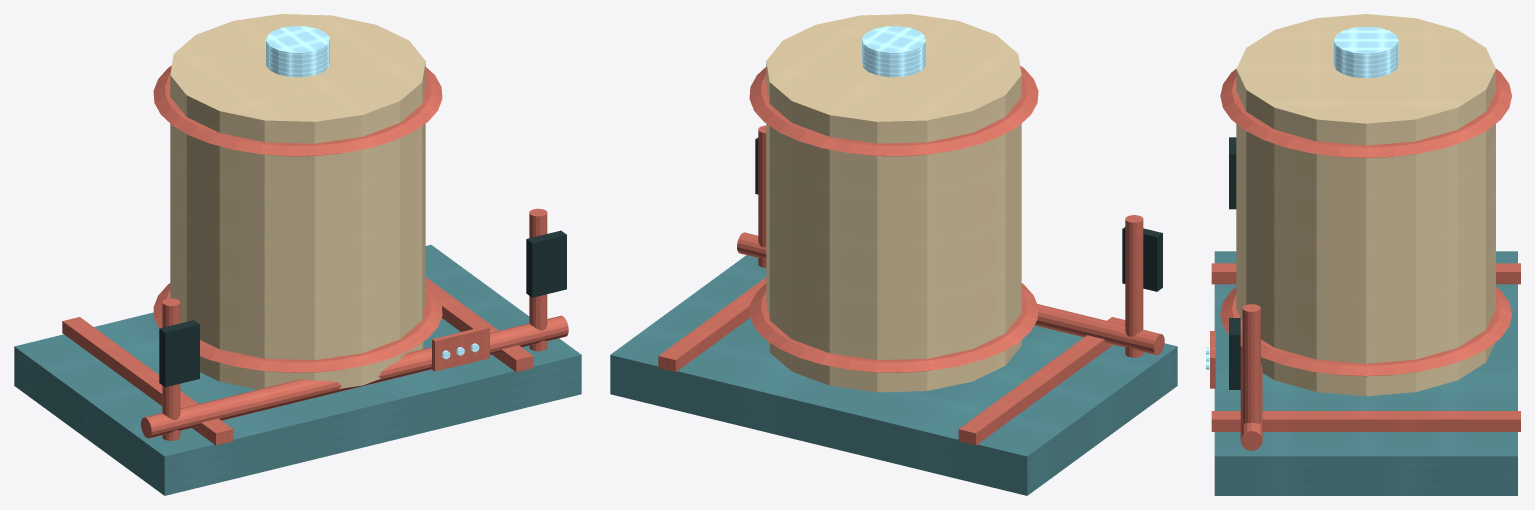
File: atlas100-s074-a04.glb
3 renders of one model, left to right at view 1: azimuth 30°, elevation 25°; view 2: azimuth 150°, elevation 25°; view 3: azimuth 270°, elevation 25°, orthographic.
Visible parts, largest first — view 1: atlas100-s074-a04:part-003, atlas100-s074-a04:part-000, atlas100-s074-a04:part-011, atlas100-s074-a04:part-005, atlas100-s074-a04:part-004, atlas100-s074-a04:part-001, atlas100-s074-a04:part-006, atlas100-s074-a04:part-010, atlas100-s074-a04:part-008, atlas100-s074-a04:part-002, atlas100-s074-a04:part-012, atlas100-s074-a04:part-009 (+1 smaller); view 2: atlas100-s074-a04:part-003, atlas100-s074-a04:part-000, atlas100-s074-a04:part-005, atlas100-s074-a04:part-004, atlas100-s074-a04:part-001, atlas100-s074-a04:part-011, atlas100-s074-a04:part-006, atlas100-s074-a04:part-002, atlas100-s074-a04:part-007, atlas100-s074-a04:part-008, atlas100-s074-a04:part-009; view 3: atlas100-s074-a04:part-003, atlas100-s074-a04:part-000, atlas100-s074-a04:part-002, atlas100-s074-a04:part-005, atlas100-s074-a04:part-004, atlas100-s074-a04:part-006, atlas100-s074-a04:part-009, atlas100-s074-a04:part-001, atlas100-s074-a04:part-011, atlas100-s074-a04:part-010, atlas100-s074-a04:part-008.
Boxes of the visible parts, x1,y1,x2,y2 form: atlas100-s074-a04:part-003: [170, 14, 425, 389]; atlas100-s074-a04:part-000: [14, 245, 581, 495]; atlas100-s074-a04:part-011: [141, 315, 568, 438]; atlas100-s074-a04:part-005: [153, 65, 442, 156]; atlas100-s074-a04:part-004: [153, 283, 442, 372]; atlas100-s074-a04:part-001: [62, 317, 233, 445]; atlas100-s074-a04:part-006: [266, 26, 329, 77]; atlas100-s074-a04:part-010: [526, 230, 566, 297]; atlas100-s074-a04:part-008: [159, 320, 199, 387]; atlas100-s074-a04:part-002: [425, 277, 533, 372]; atlas100-s074-a04:part-012: [432, 326, 489, 371]; atlas100-s074-a04:part-009: [529, 208, 547, 351]; atlas100-s074-a04:part-003: [766, 14, 1021, 392]; atlas100-s074-a04:part-000: [610, 255, 1177, 495]; atlas100-s074-a04:part-005: [749, 65, 1038, 156]; atlas100-s074-a04:part-004: [749, 283, 1038, 372]; atlas100-s074-a04:part-001: [958, 317, 1125, 445]; atlas100-s074-a04:part-011: [737, 232, 1164, 355]; atlas100-s074-a04:part-006: [862, 26, 925, 77]; atlas100-s074-a04:part-002: [658, 277, 766, 372]; atlas100-s074-a04:part-007: [1125, 215, 1143, 357]; atlas100-s074-a04:part-008: [1122, 227, 1162, 291]; atlas100-s074-a04:part-009: [758, 125, 766, 267]; atlas100-s074-a04:part-003: [1236, 14, 1495, 396]; atlas100-s074-a04:part-000: [1214, 251, 1517, 495]; atlas100-s074-a04:part-002: [1211, 411, 1520, 431]; atlas100-s074-a04:part-005: [1220, 68, 1511, 157]; atlas100-s074-a04:part-004: [1220, 287, 1511, 376]; atlas100-s074-a04:part-006: [1333, 26, 1398, 78]; atlas100-s074-a04:part-009: [1242, 304, 1260, 423]; atlas100-s074-a04:part-001: [1211, 263, 1520, 284]; atlas100-s074-a04:part-011: [1240, 346, 1262, 450]; atlas100-s074-a04:part-010: [1229, 318, 1240, 389]; atlas100-s074-a04:part-008: [1229, 137, 1236, 209].
Size of the model in its own units: 2.88 by 2.31 by 1.87.
5 materials, 5 textured.
